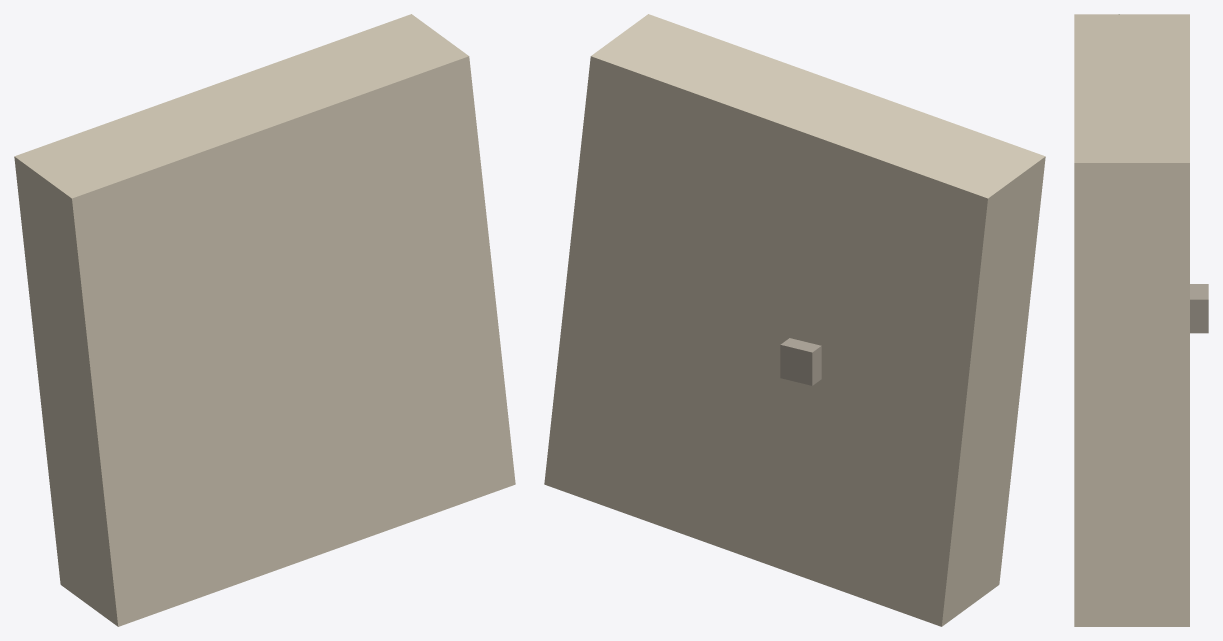
File: historic-palestine-10_23_3523_3180.glb
The picture shows the model from 3 angles, left to right: view 1: azimuth 30°, elevation 25°; view 2: azimuth 150°, elevation 25°; view 3: azimuth 270°, elevation 25°; orthographic projection.
Visible parts, largest first — view 1: Building_; view 2: Building_, Roof access hut; view 3: Building_, Roof access hut.
Part boxes in pixels (x1,y1,x2,y2): Building_: (14, 14, 515, 626); Building_: (544, 14, 1045, 626); Roof access hut: (780, 338, 821, 385); Building_: (1074, 14, 1189, 626); Roof access hut: (1190, 284, 1208, 333).
Bounding box in the file's own units: 33.36 × 34.82 × 8.7.
